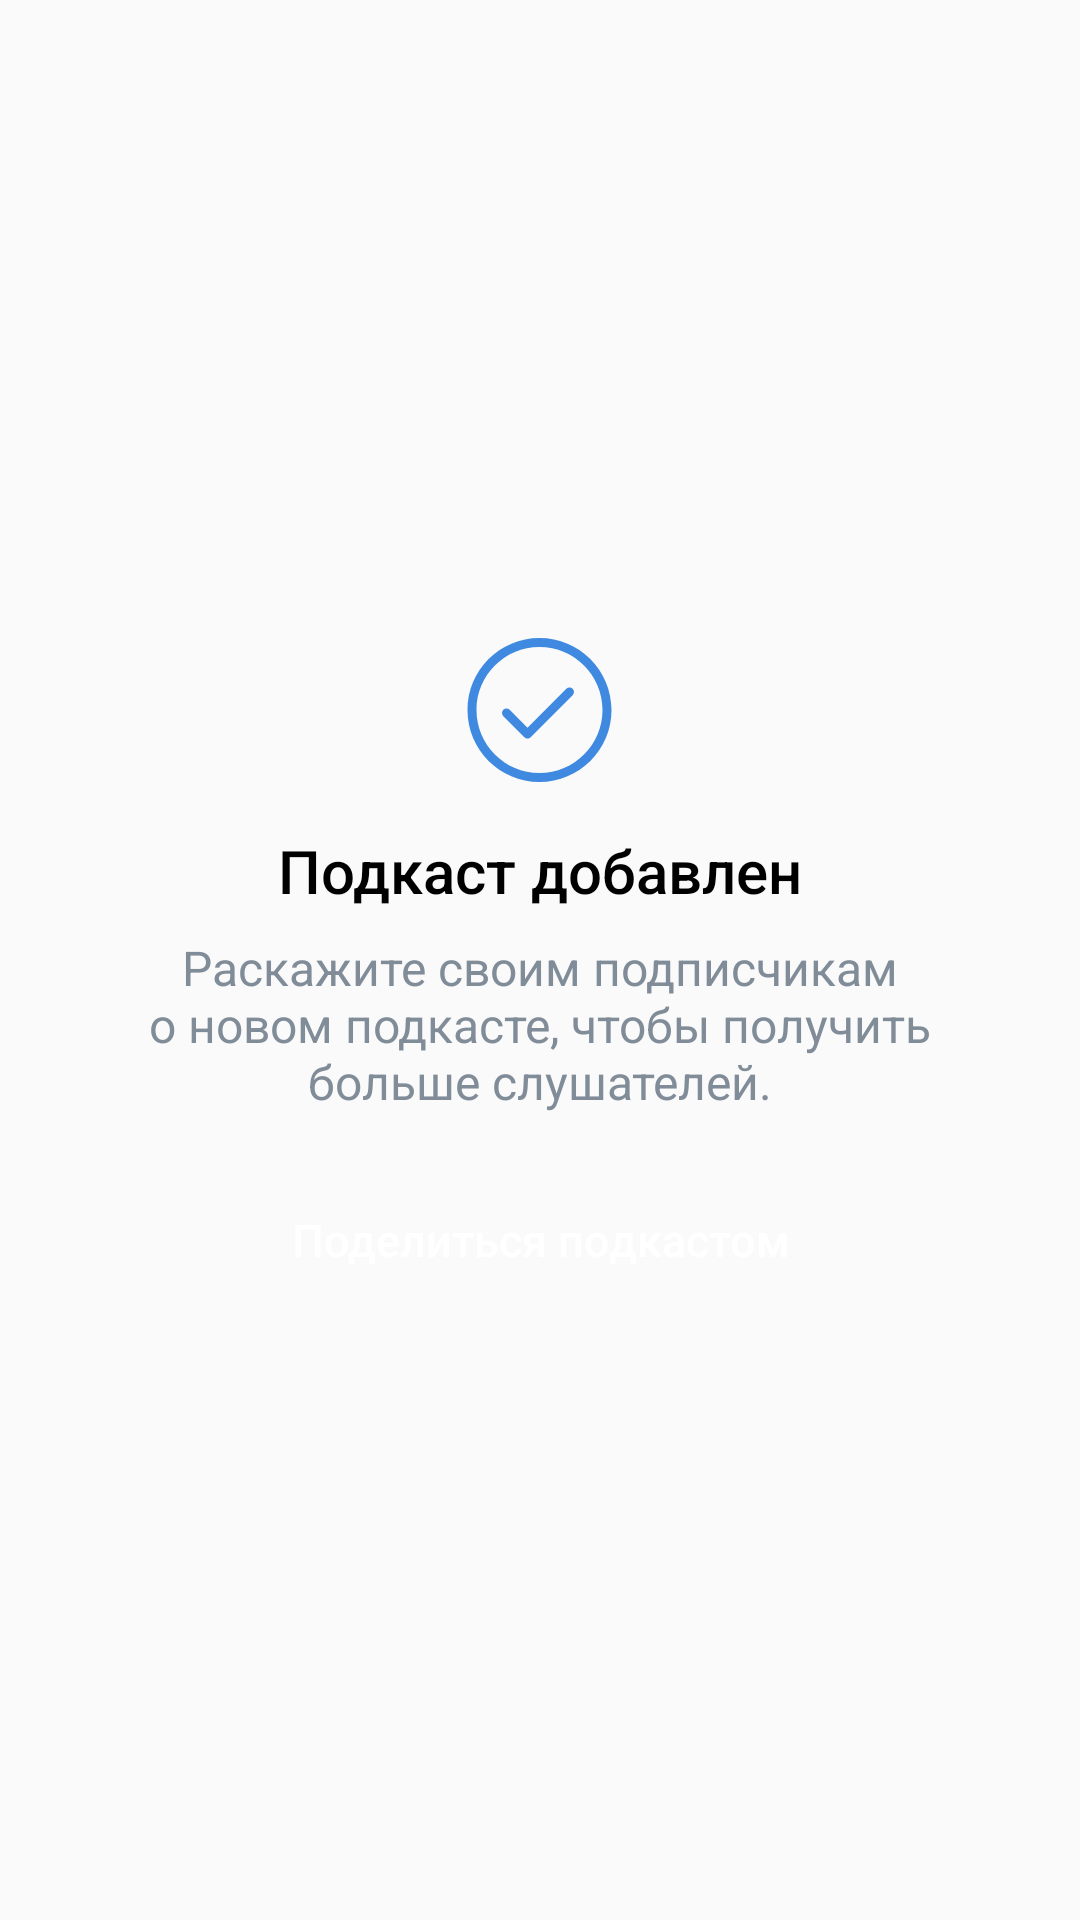

Icons on this 1080px x 1920px Android screen, each with its box as box(x1, y1, x2, y2):
done: box(467, 638, 612, 782)
